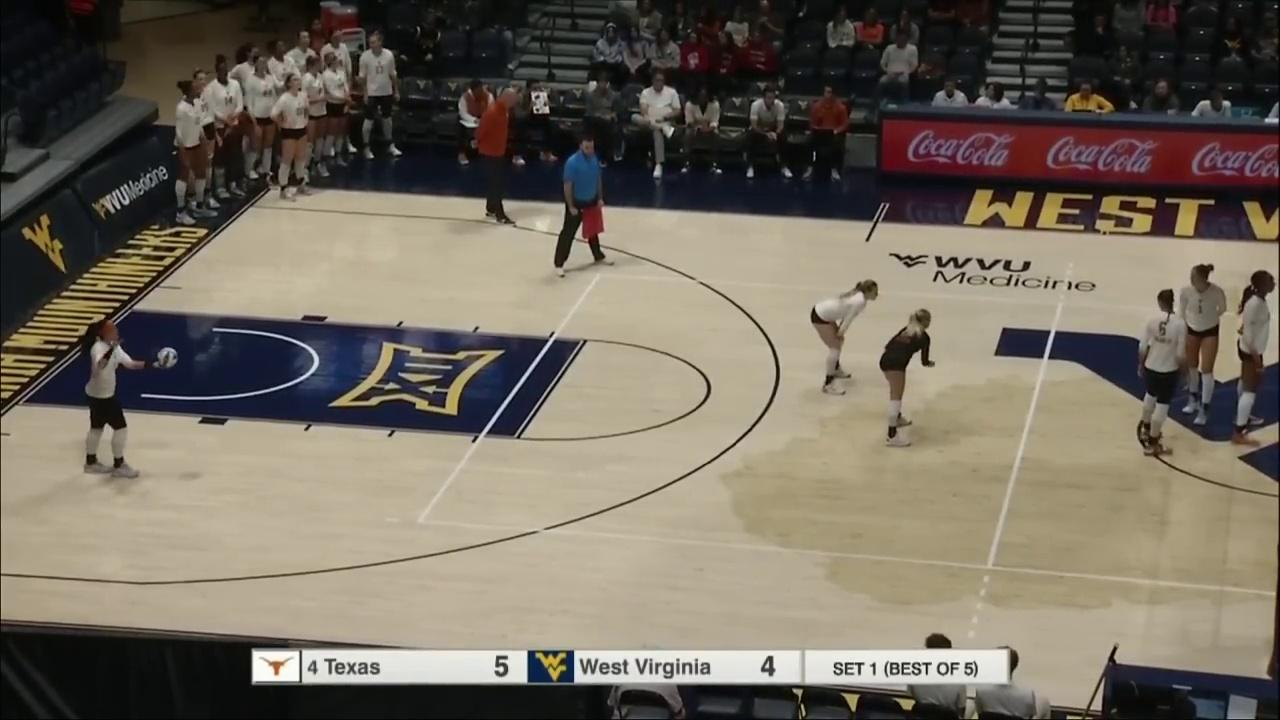player: (83, 321, 160, 479), (1175, 262, 1228, 425), (811, 277, 878, 395), (1233, 270, 1277, 446), (1140, 291, 1187, 453), (881, 307, 936, 443)
refree: (554, 135, 615, 277)
